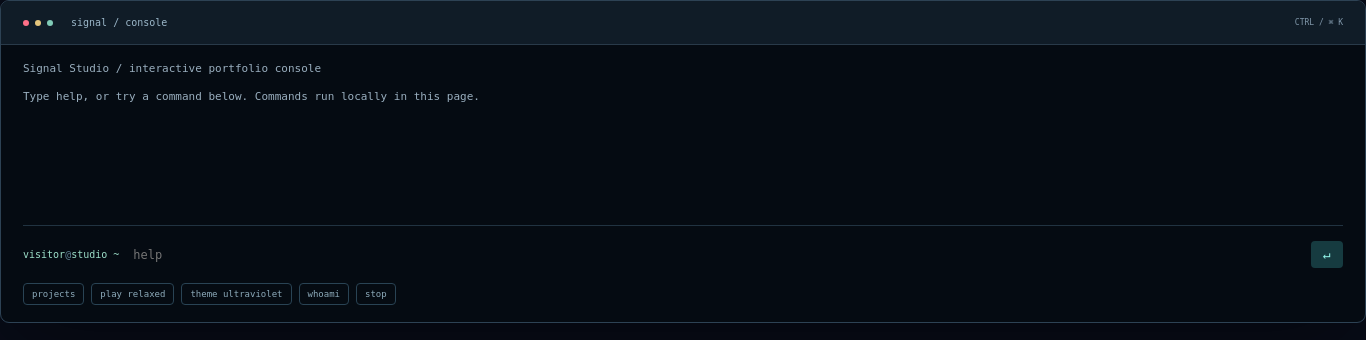
Scenario: terminal commands filter real projects, change lighting, and reject unsupported commands
Later steps or results of the test are not shown.
In the field named "Terminal command": {"x": 715, "y": 254} [131,246,1299,262], type "find speech"
Click the button named "Run command": {"x": 1327, "y": 254} [1311,241,1343,268]
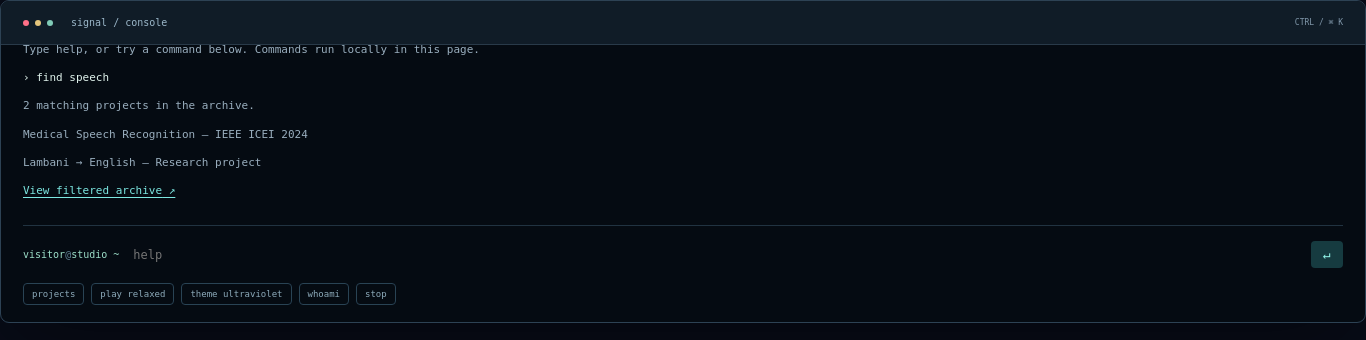
Expected: the text "Medical Speech Recognition" is shown, [23,128,308,141]
In the field named "Terminal command": {"x": 715, "y": 254} [131,246,1299,262], type "theme acid"
Click the button named "Run command": {"x": 1327, "y": 254} [1311,241,1343,268]
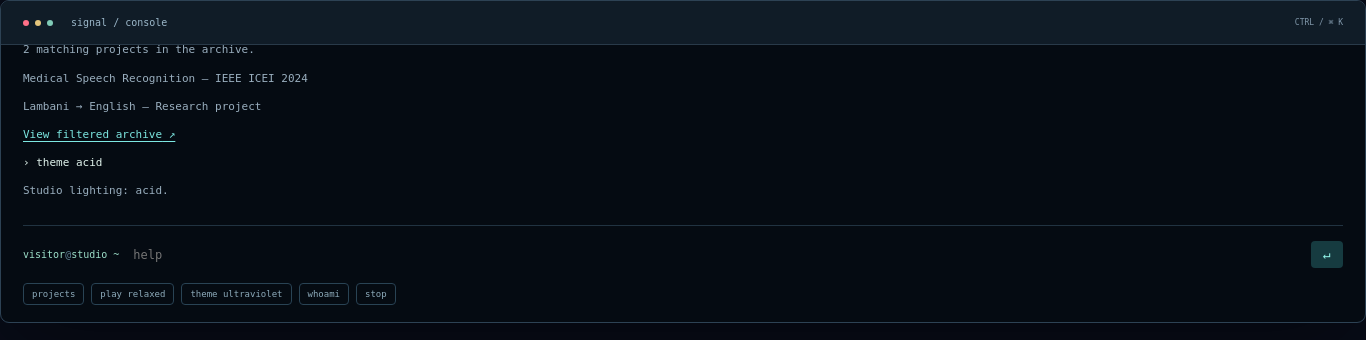
In the field named "Terminal command": {"x": 715, "y": 254} [131,246,1299,262], type "theme invalid"
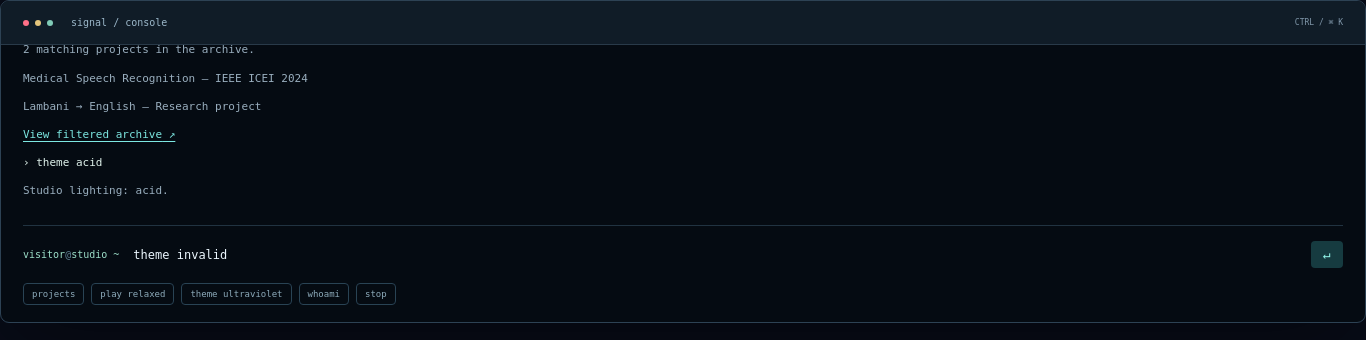
Click the button named "Run command": {"x": 1327, "y": 254} [1311,241,1343,268]
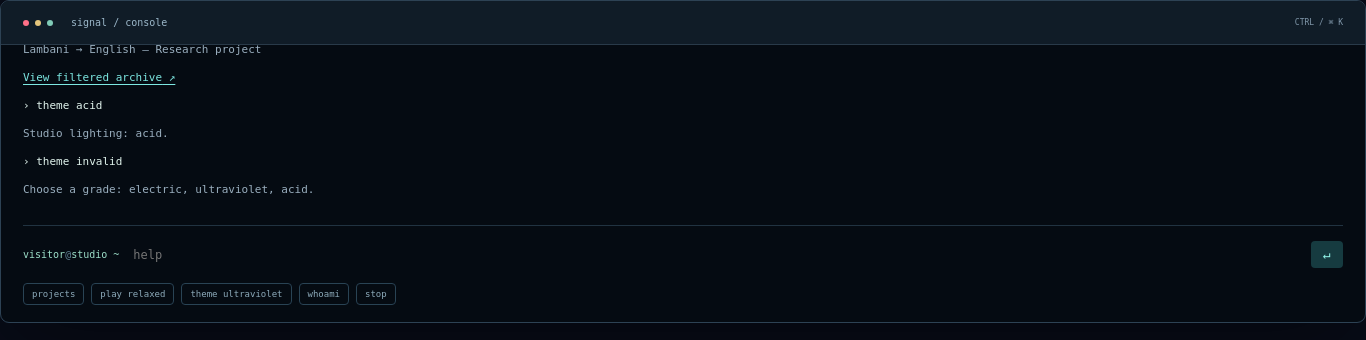
In the field named "Terminal command": {"x": 715, "y": 254} [131,246,1299,262], type "rm -rf /"
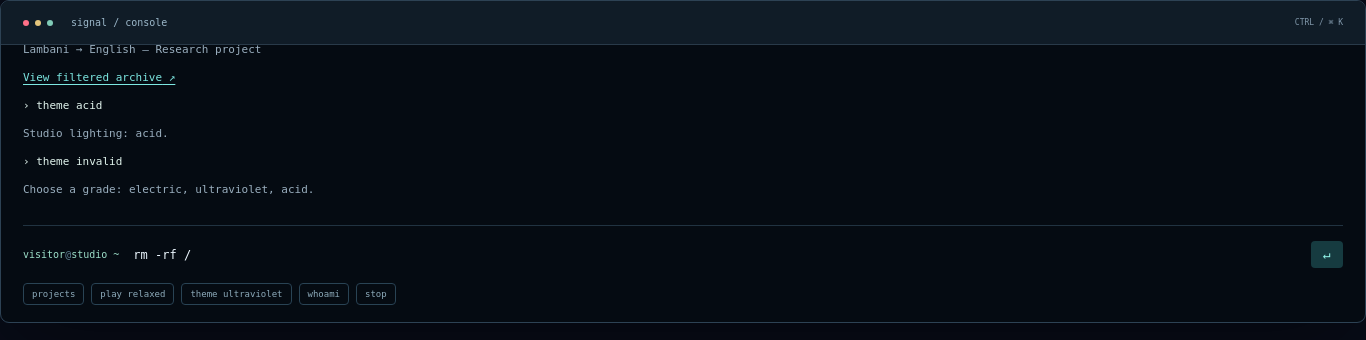
Click the button named "Run command": {"x": 1327, "y": 254} [1311,241,1343,268]
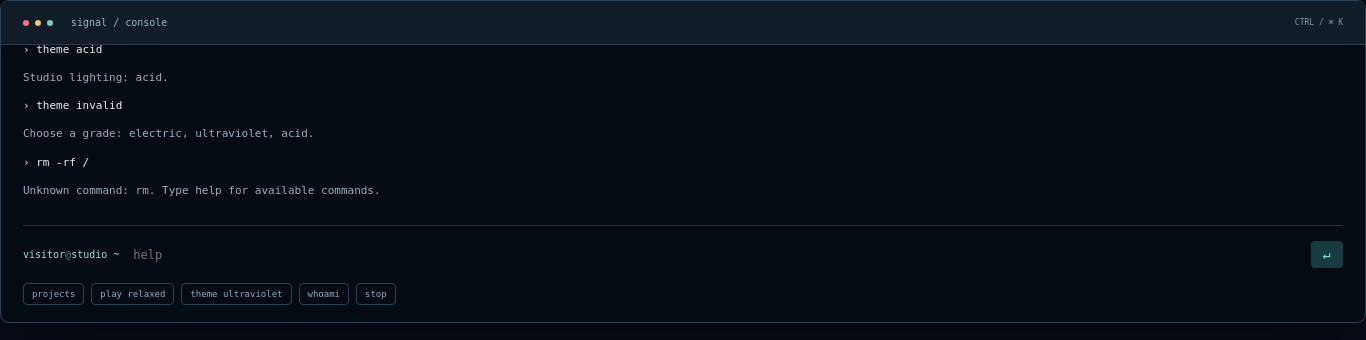
Expected: the text "Unknown command: rm" is shown, [23,184,381,197]
